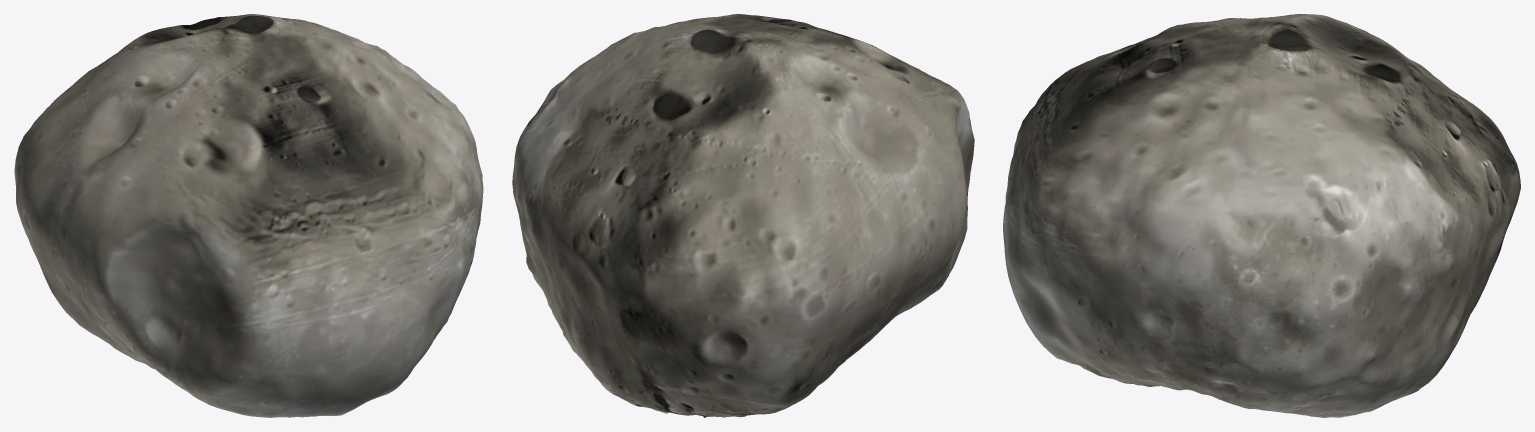
Rendered from phobos.glb.
3 views of the same model, side by side, from view 1: azimuth 30°, elevation 25°; view 2: azimuth 150°, elevation 25°; view 3: azimuth 270°, elevation 25° (orthographic). The views are drawn at different scales.
Visible parts, largest first — view 1: phobos; view 2: phobos; view 3: phobos.
Boxes of the visible parts, x1,y1,x2,y2 form: phobos: (14,14,483,417); phobos: (512,14,974,417); phobos: (1003,14,1520,417).
Size of the model in its own units: 24.37 by 20.52 by 27.04.
Materials: 1 (1 with a texture image).
